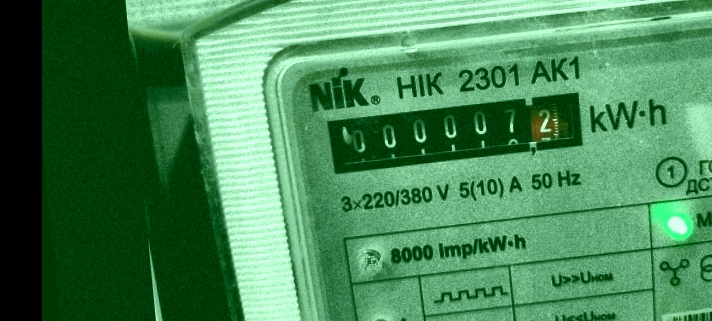0: (380, 121, 400, 150), (471, 107, 490, 137), (410, 116, 430, 144), (350, 126, 369, 154), (442, 111, 459, 139)
2: (537, 105, 555, 135)
7: (501, 105, 520, 136)
screen: (319, 82, 597, 180)
